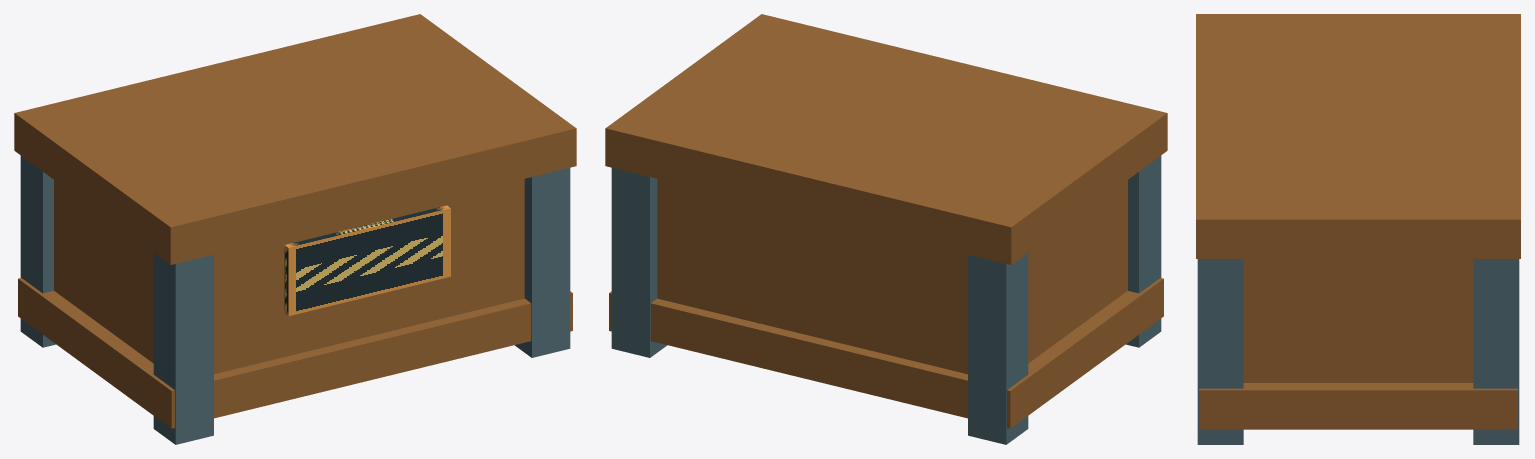
Rendered from Workshop Crate.glb.
The picture shows the model from 3 angles, left to right: view 1: azimuth 30°, elevation 25°; view 2: azimuth 150°, elevation 25°; view 3: azimuth 270°, elevation 25°; orthographic projection. The views are drawn at different scales.
Bounding box in the file's own units: 1.8 × 0.93 × 1.2.
3 materials, 1 textured.
